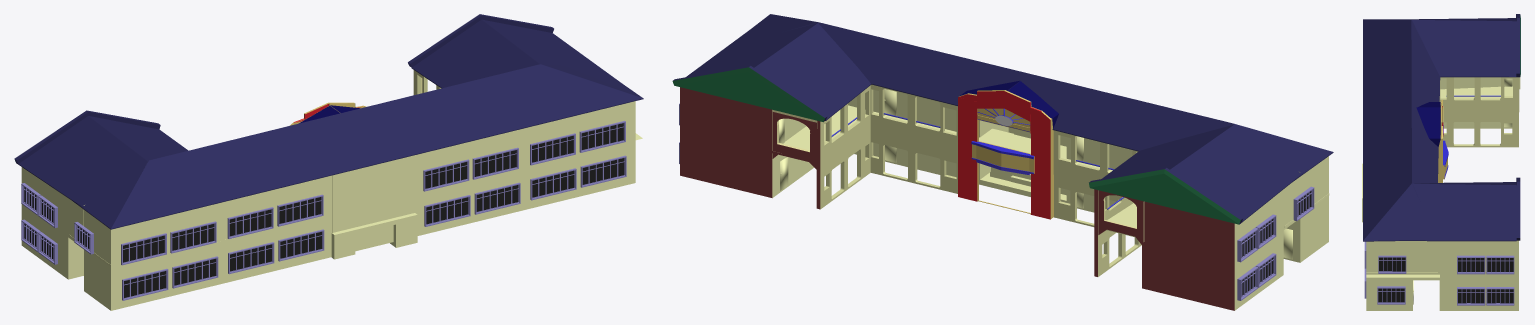
The model's file is yellow_final.glb.
3 views of the same model, side by side, from view 1: azimuth 30°, elevation 25°; view 2: azimuth 150°, elevation 25°; view 3: azimuth 270°, elevation 25° (orthographic). The views are drawn at different scales.
Parts seen in each view (by area): view 1: Yellow .001; view 2: Yellow .001; view 3: Yellow .001.
Part boxes in pixels (x1,y1,x2,y2): Yellow .001: (14,14,643,310); Yellow .001: (672,14,1333,310); Yellow .001: (1362,14,1520,310).
Size of the model in its own units: 20.02 by 4.37 by 5.97.
